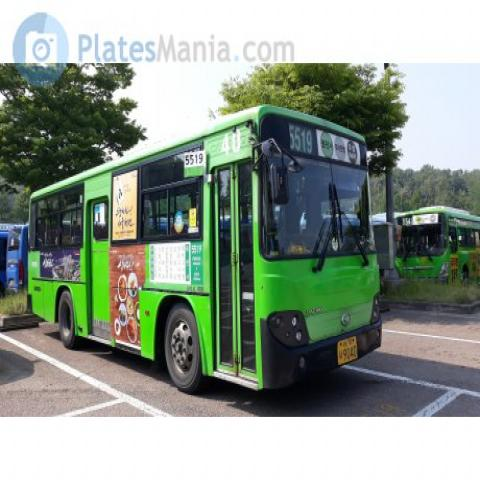LP: (332, 332, 360, 367)
